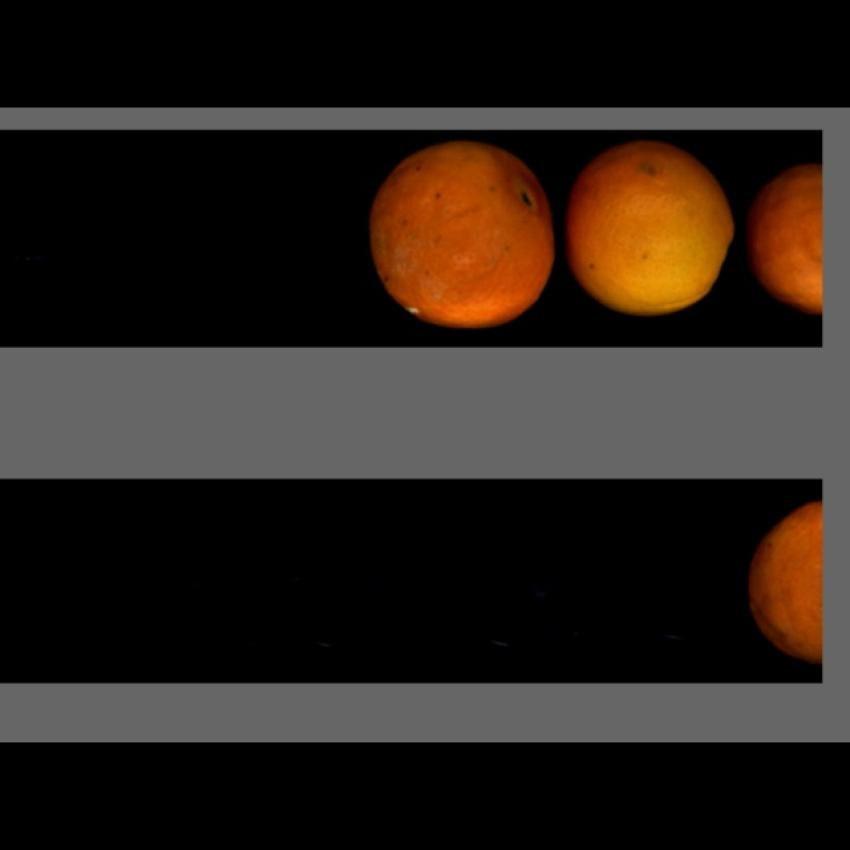Buen estado: (564, 139, 736, 327)
Mal estado: (355, 134, 559, 331), (744, 490, 822, 671), (746, 151, 825, 319)
